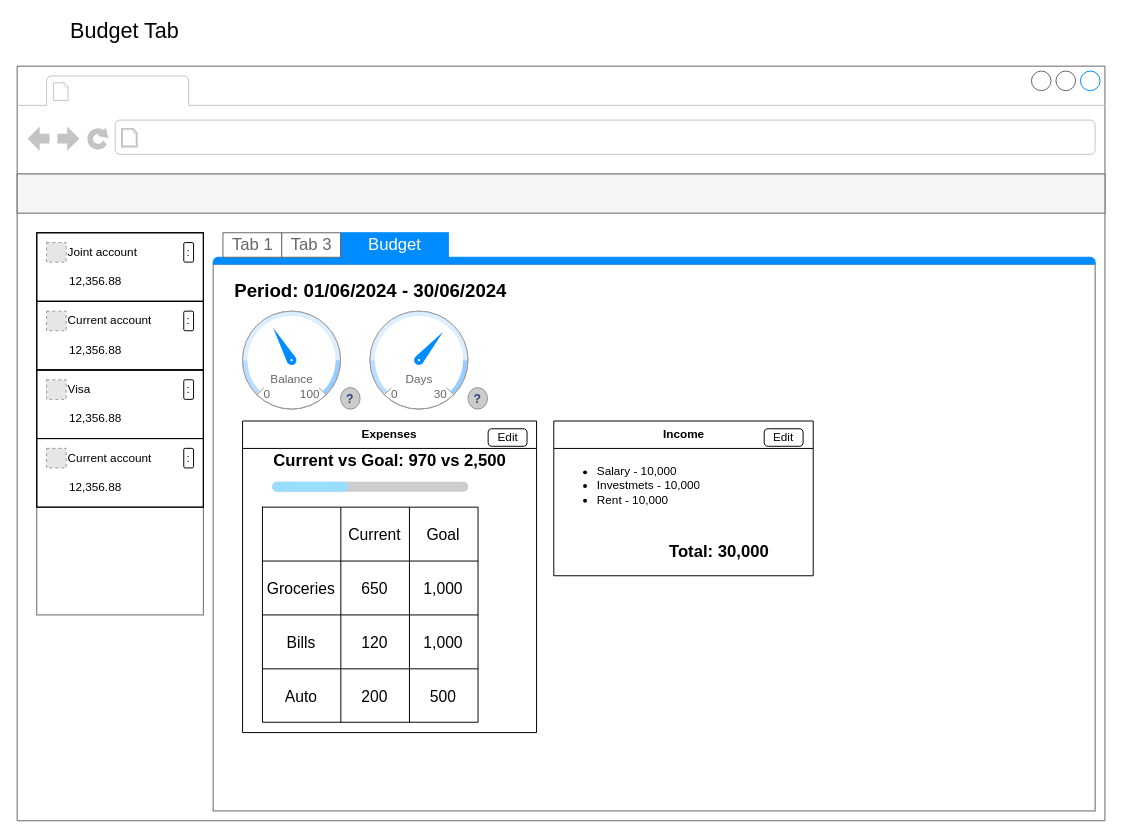
Some shapes in this 1122 by 838 pixel diagram are drawn without their labels. Grey dashed boxes stand in for pictures. Each missing label, with the centre of its shape:
Cashflow: the point at 560,193
https://localhost:3000: the point at 267,137
Page 1: the point at 129,90
